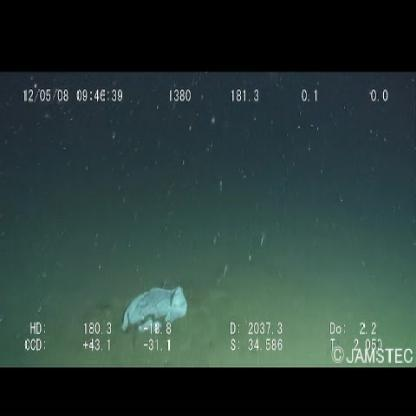Rác: (118, 282, 192, 335)
